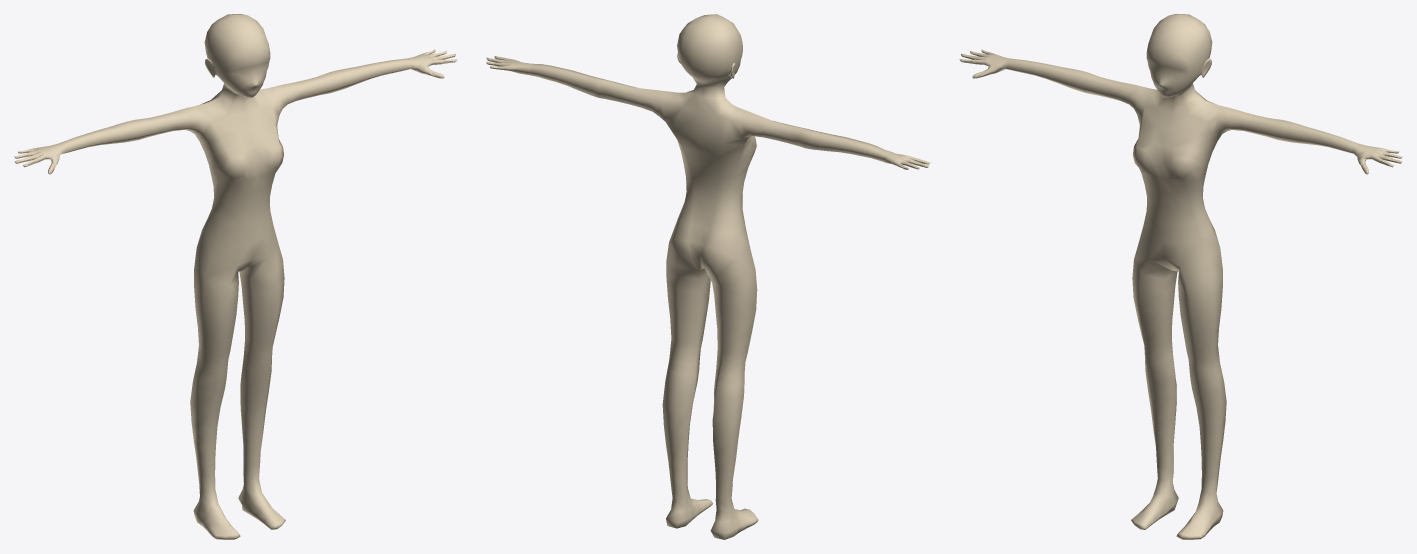
The model's file is CHAR_Body_Base_LowPoly_01.fbx.
The picture shows the model from 3 angles, left to right: view 1: azimuth 30°, elevation 25°; view 2: azimuth 150°, elevation 25°; view 3: azimuth 330°, elevation 25°; orthographic projection.
Parts seen in each view (by area): view 1: polySurface38; view 2: polySurface38; view 3: polySurface38.
Boxes of the visible parts, x1=… form: polySurface38: x1=14, y1=14, x2=457, y2=539; polySurface38: x1=486, y1=14, x2=930, y2=539; polySurface38: x1=959, y1=14, x2=1402, y2=539.
Bounding box in the file's own units: 146 × 21.83 × 160.
